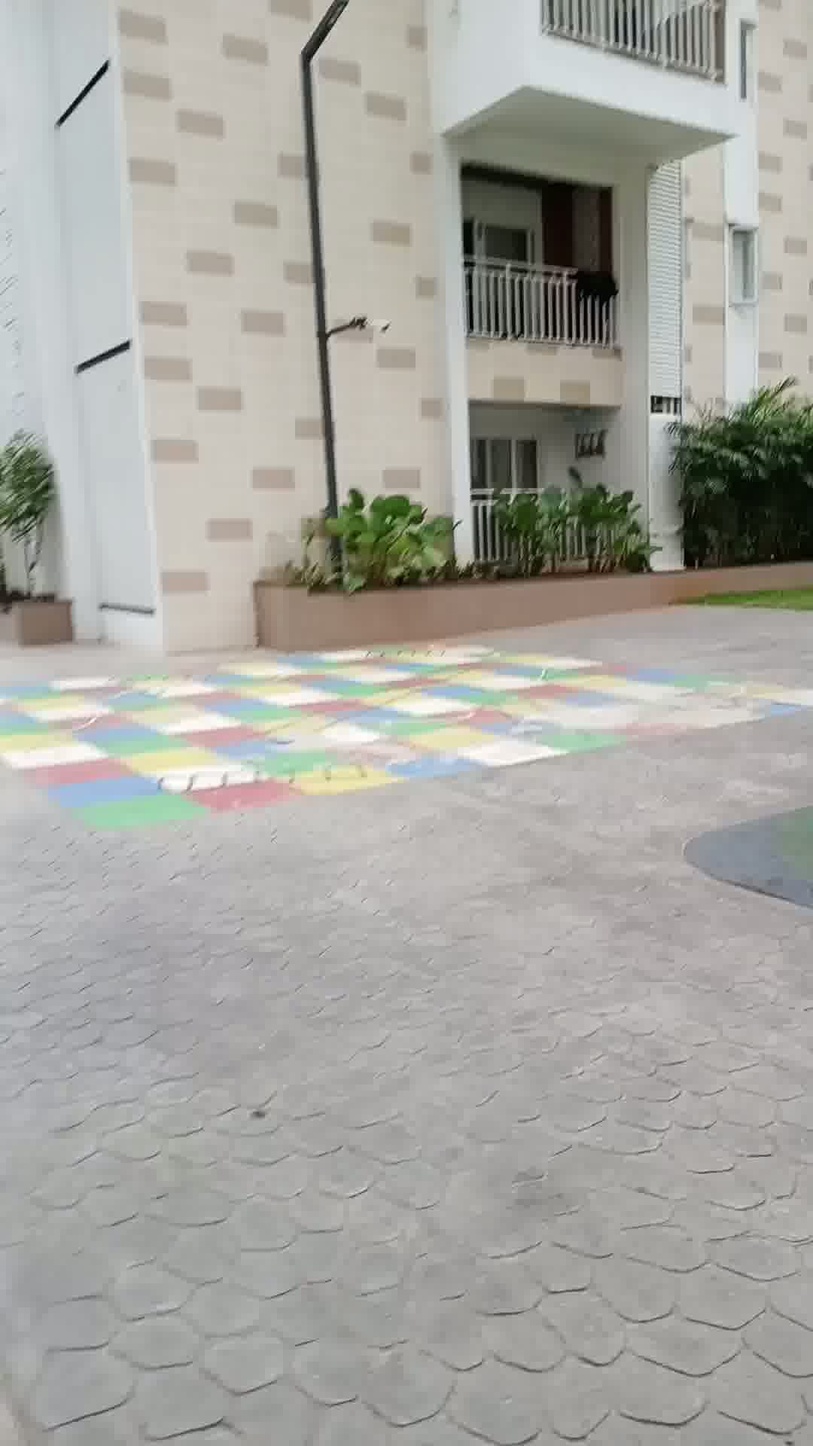tree: (0, 424, 71, 652)
